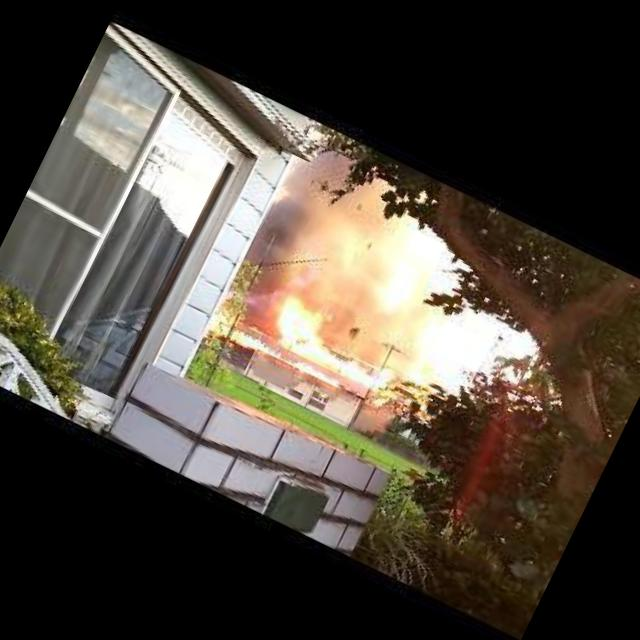fire: (278, 302, 402, 393), (232, 330, 344, 392), (371, 372, 428, 423), (248, 322, 268, 337)
